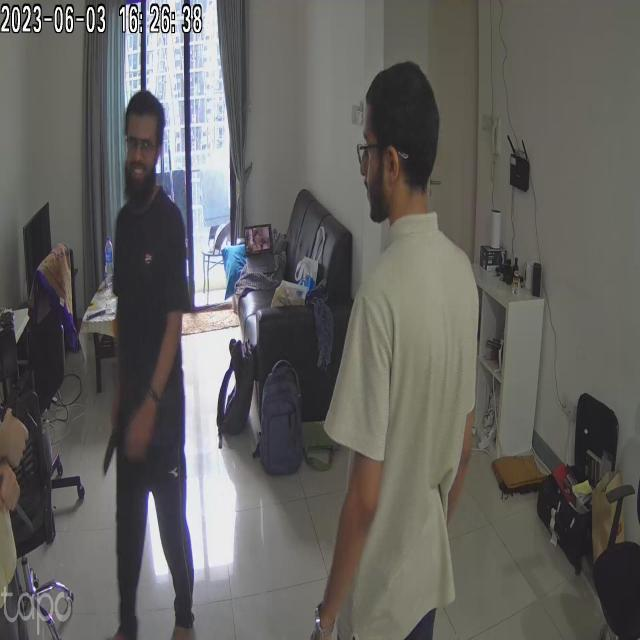Knife: (92, 393, 136, 492)
